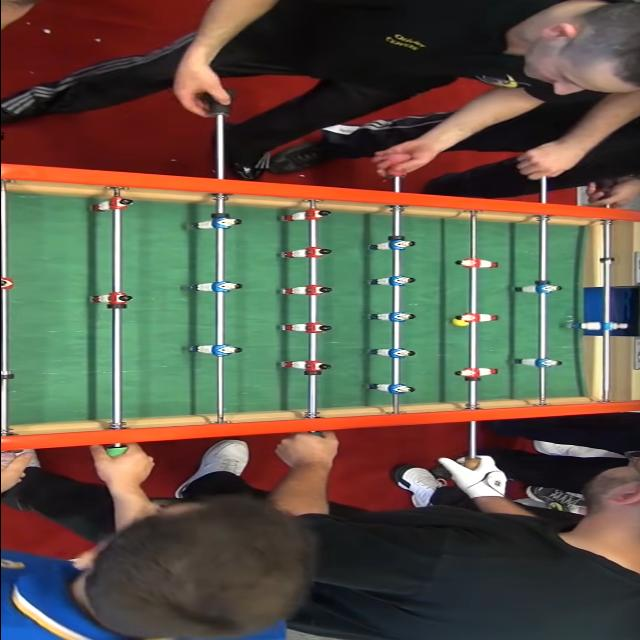ball: (456, 318, 468, 329)
